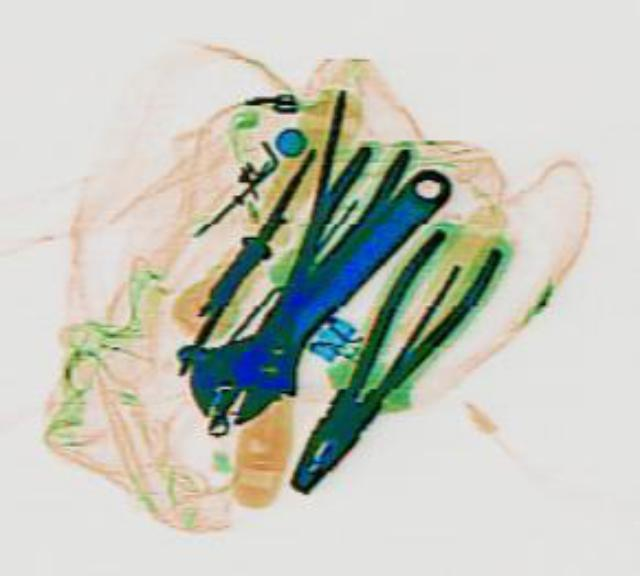Pliers: (264, 217, 503, 507)
Wrench: (160, 140, 480, 440)
